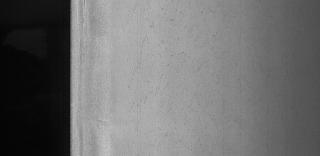silk spot: (124, 0, 236, 146)
